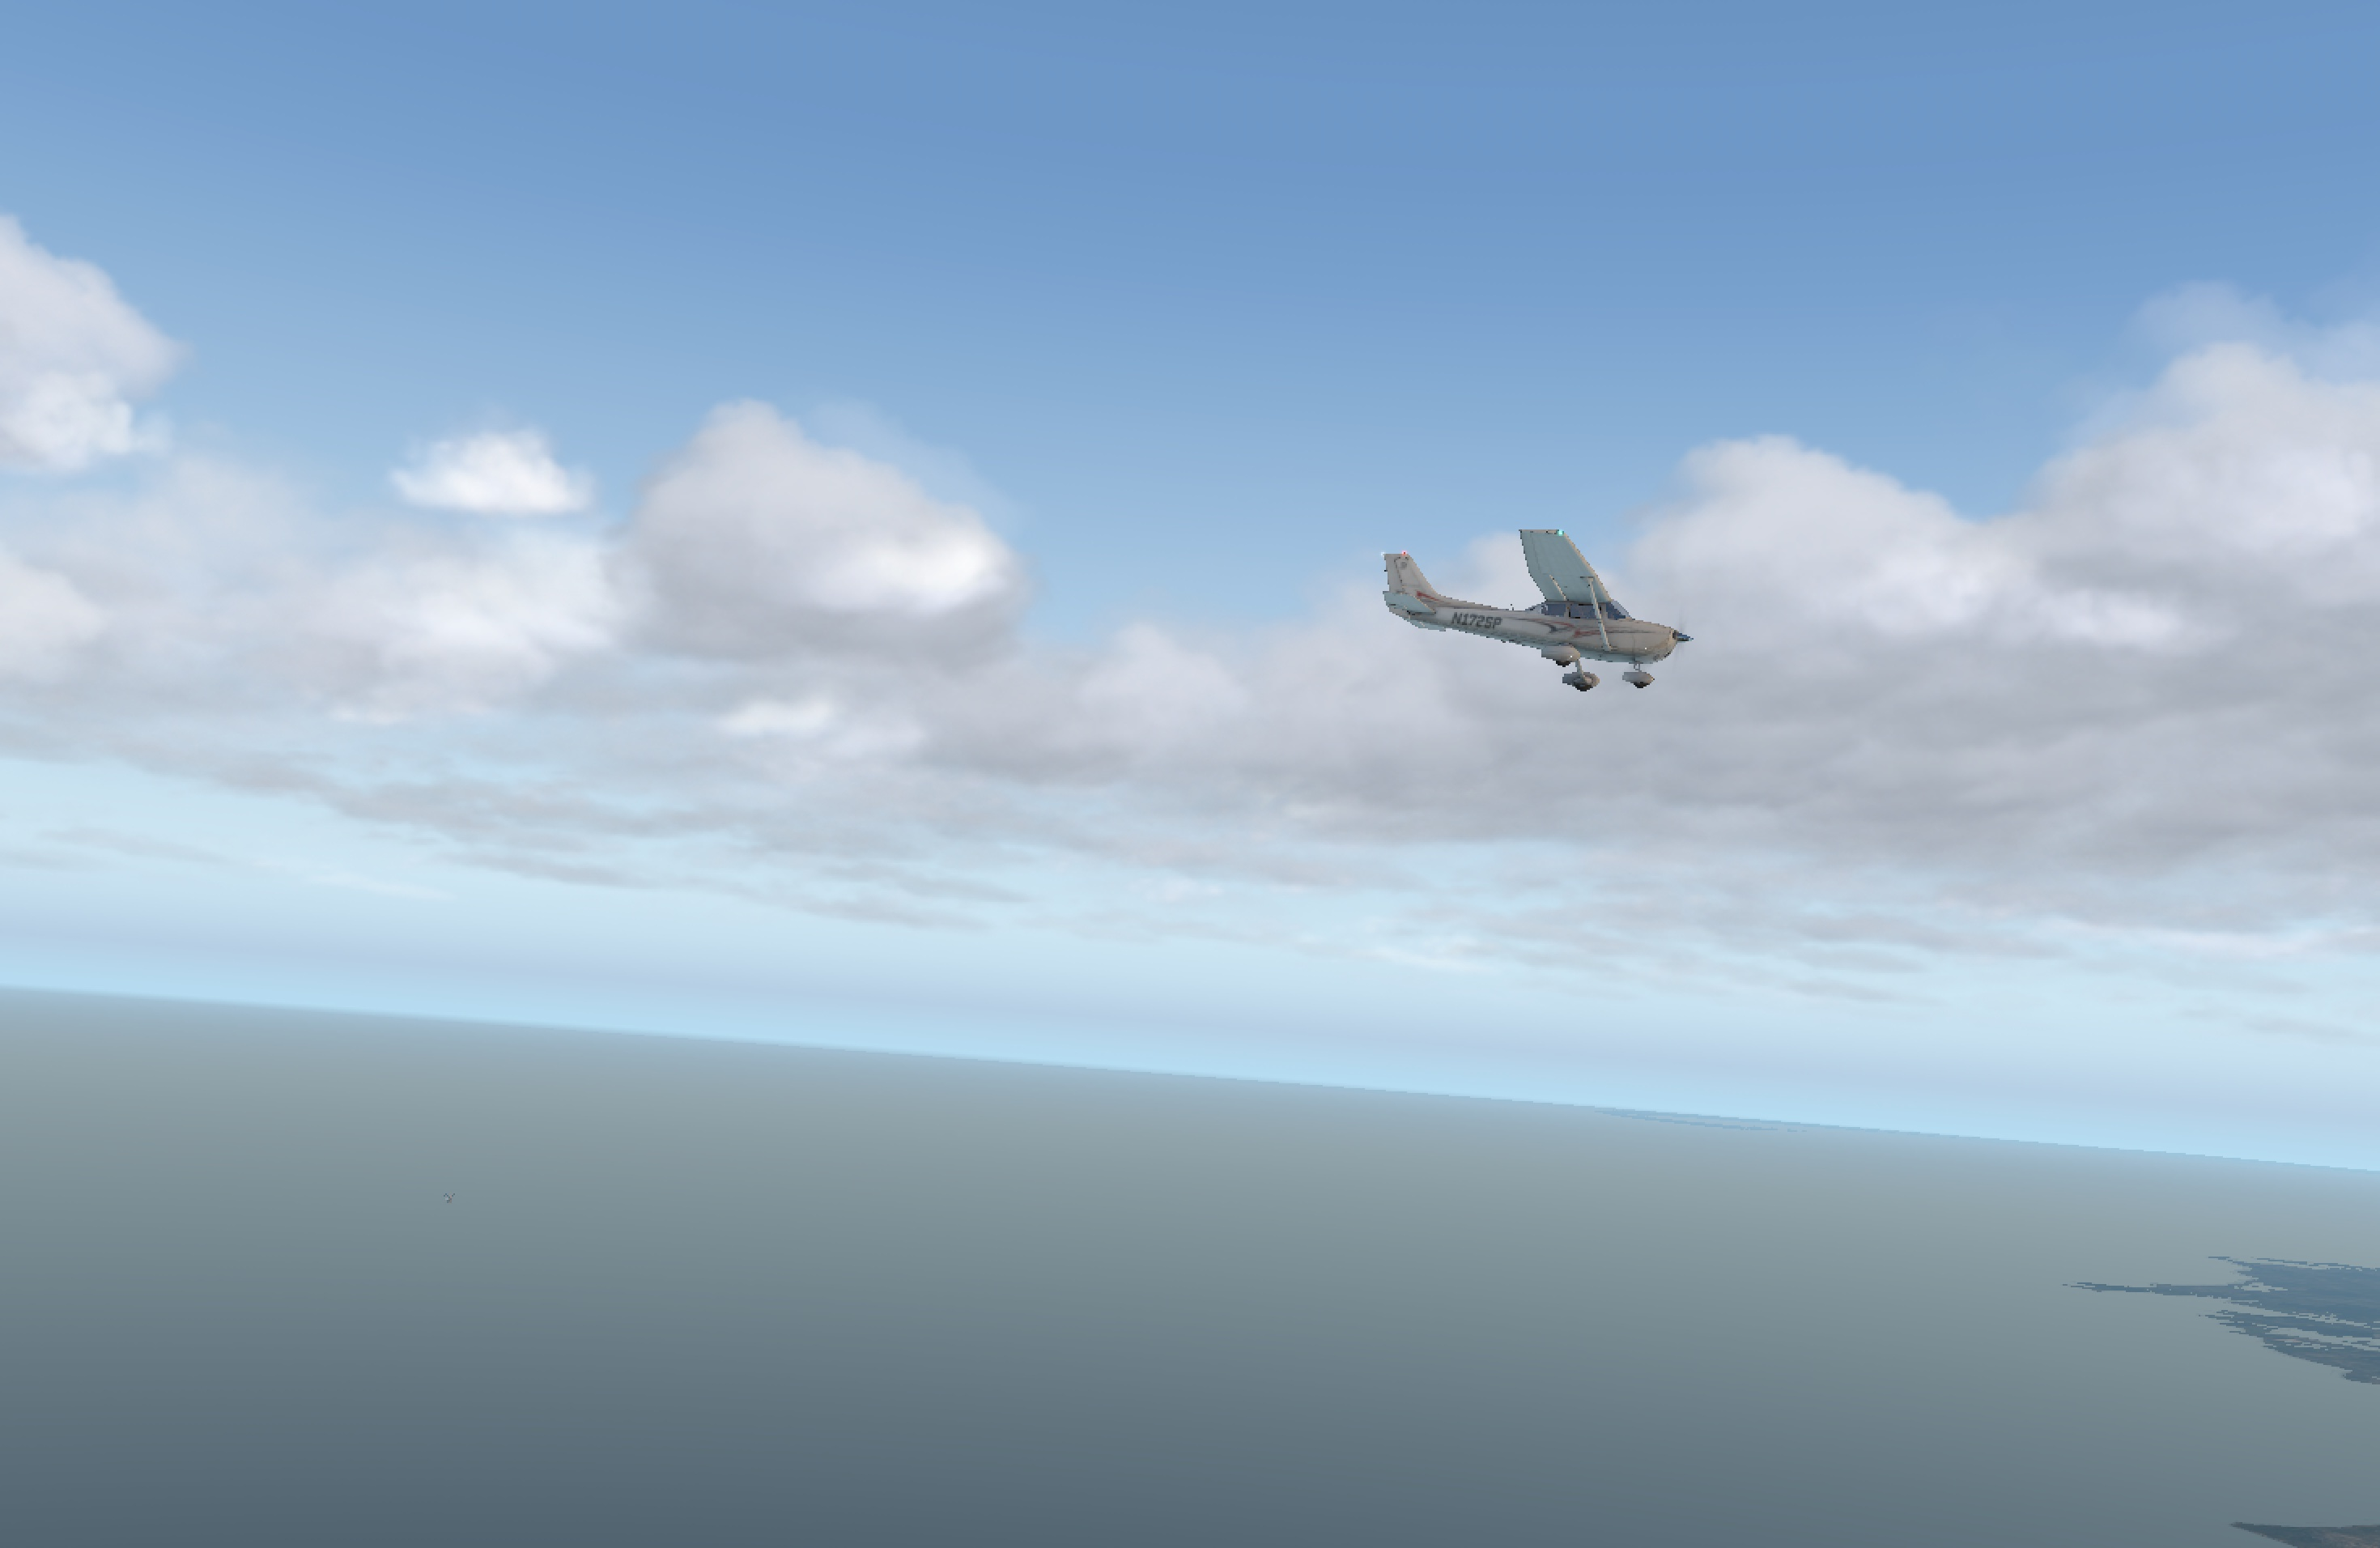aircraft: (1439, 569, 1749, 685)
